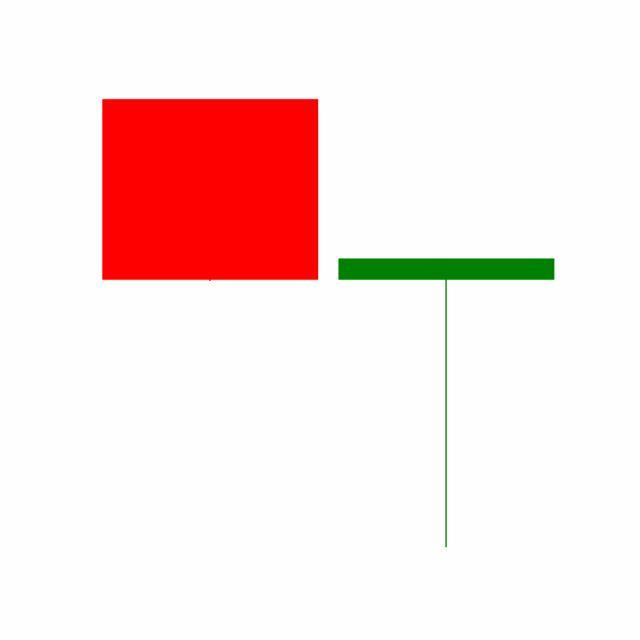Hammer: (328, 256, 566, 552)
